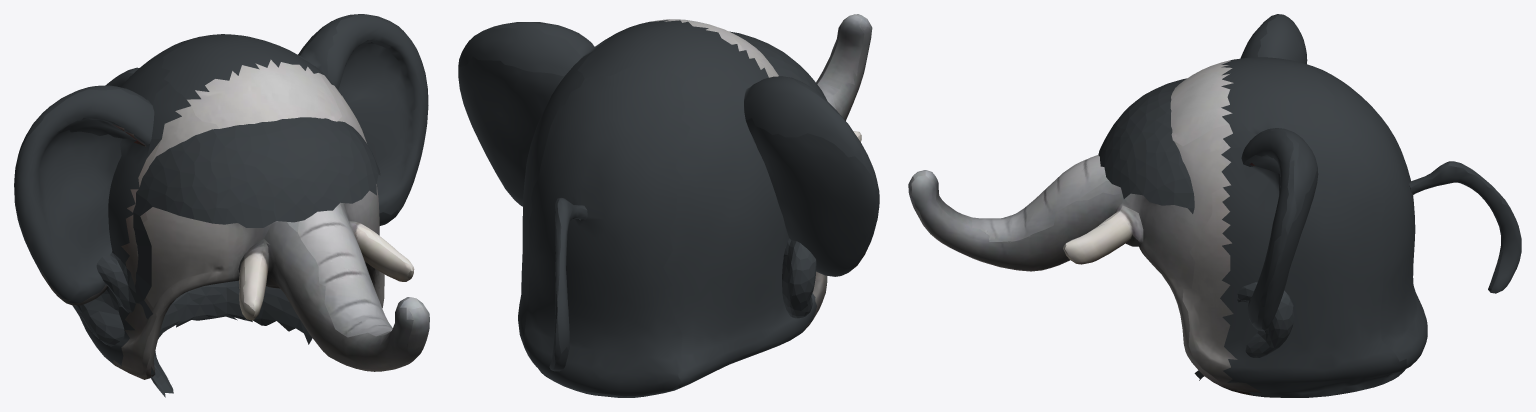
Rendered from elephant.glb.
3 renders of one model, left to right at view 1: azimuth 30°, elevation 25°; view 2: azimuth 150°, elevation 25°; view 3: azimuth 270°, elevation 25°, orthographic. The views are drawn at different scales.
Visible parts, largest first — view 1: geometry_0, HoodAnatomicalLining; view 2: geometry_0, HoodAnatomicalLining; view 3: geometry_0, HoodAnatomicalLining.
Part boxes in pixels (x1,y1,x2,y2): geometry_0: (14,14,429,379); HoodAnatomicalLining: (75,117,380,397); geometry_0: (458,14,879,397); HoodAnatomicalLining: (729,31,827,318); geometry_0: (908,14,1521,397); HoodAnatomicalLining: (1098,78,1294,380).
Size of the model in its own units: 0.6571 by 0.4655 by 0.908.
2 materials, 1 textured.
